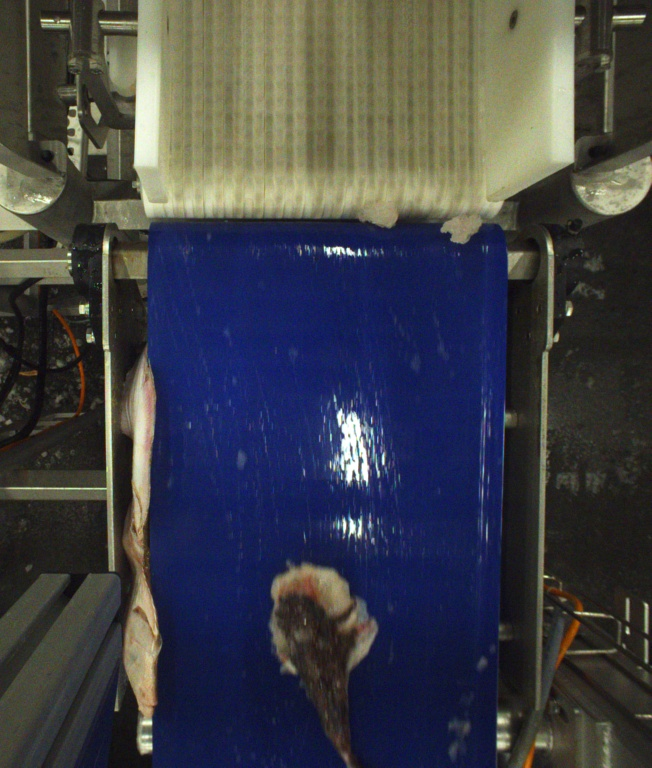ANF: (271, 559, 384, 768)
